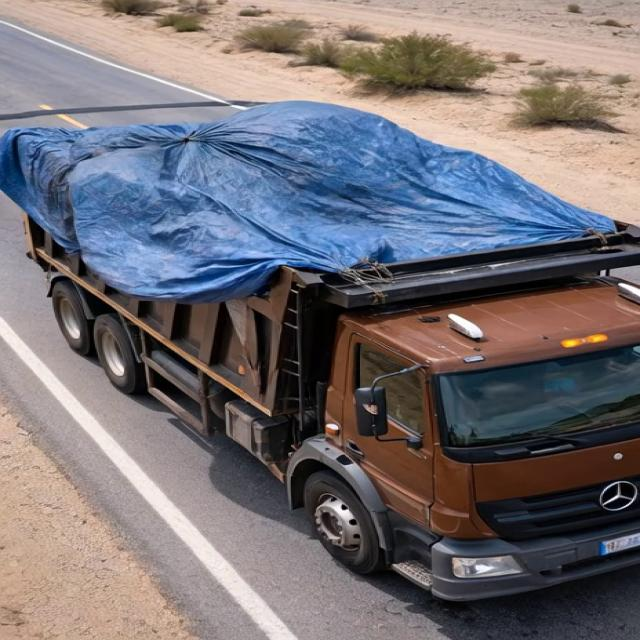Box: (12, 100, 624, 277)
Truck: (4, 64, 640, 599)
